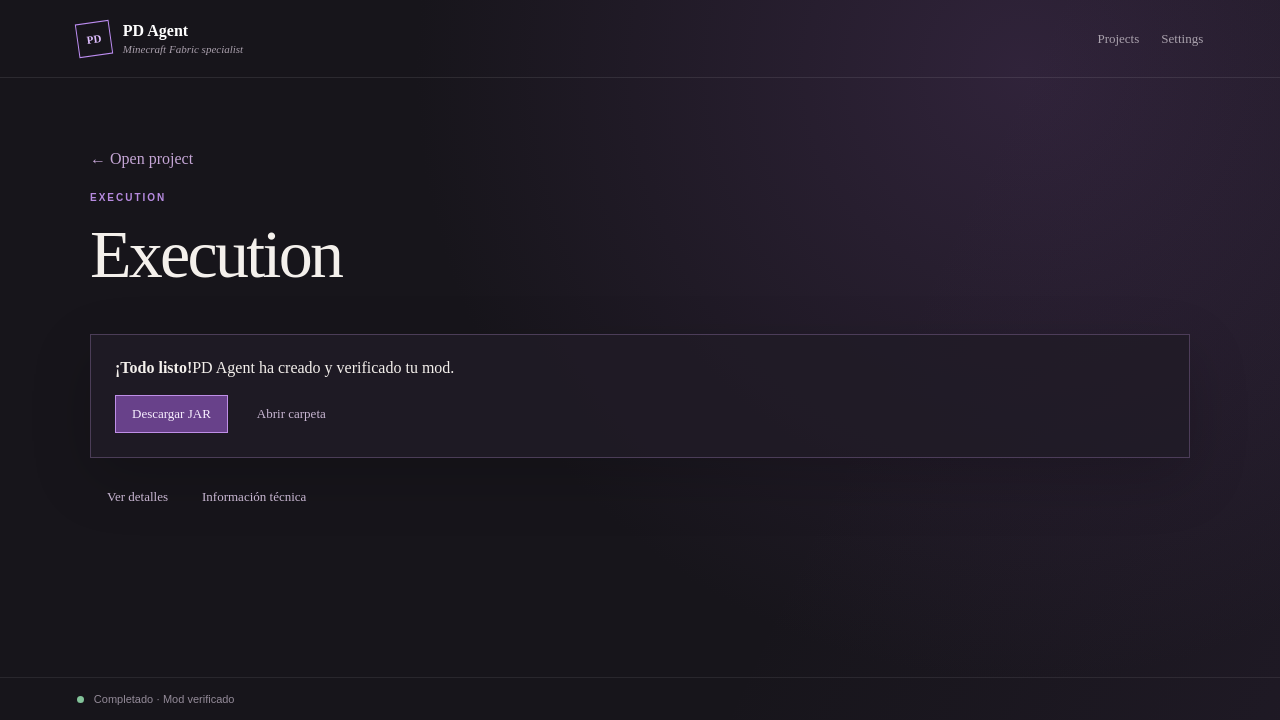
Test: frontend route and state foundations › exposes download and reveal actions only for a real delivery
Click the button "Abrir carpeta": (291, 414) [240,395,343,433]
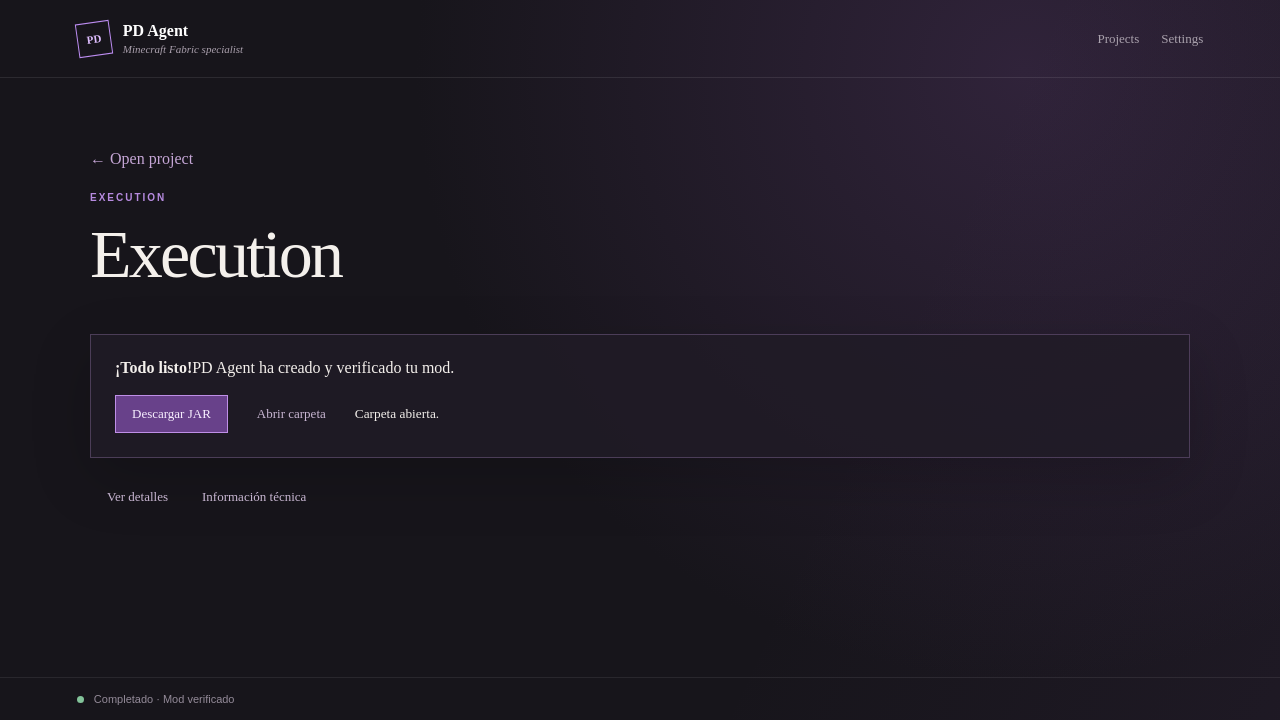
Expected: the message reads "Carpeta abierta.", [355,406,439,421]
